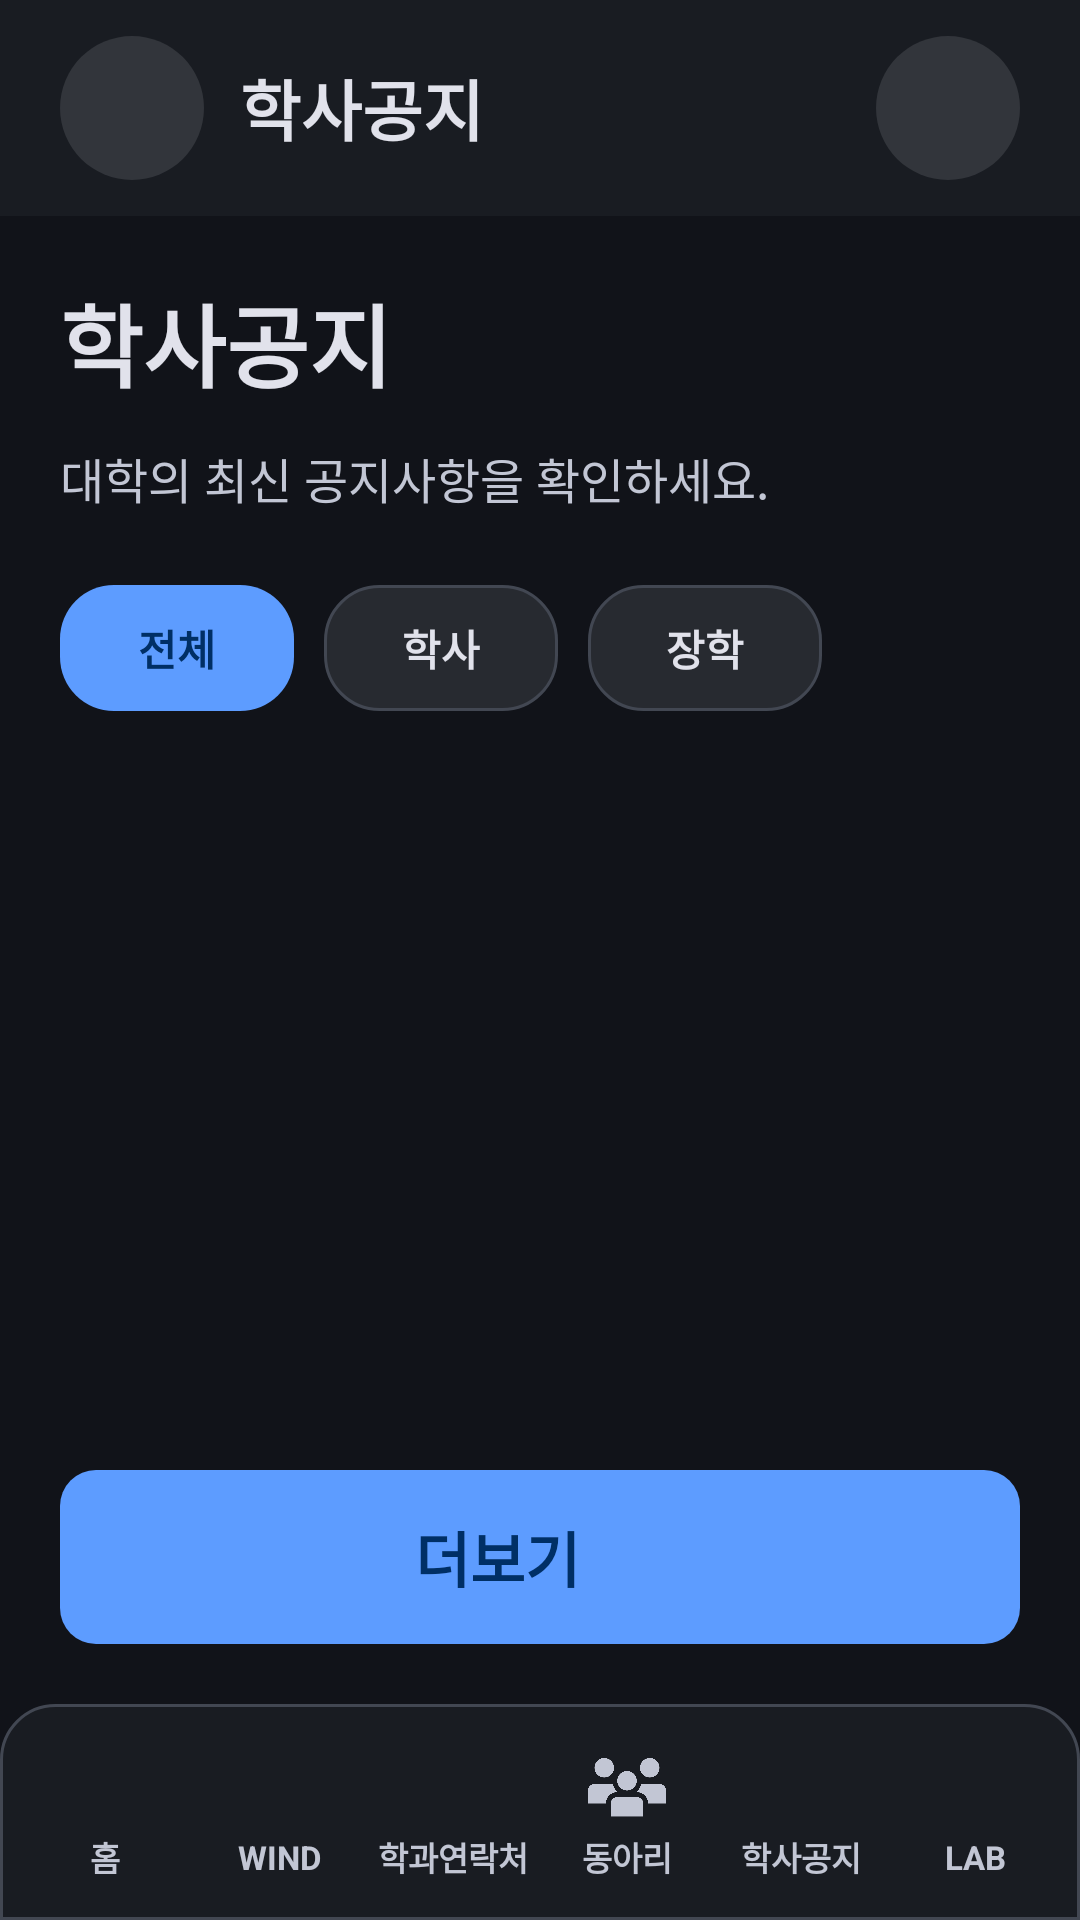

Icons on this 1080px x 1920px Android screen, each with the point to tap as point (x, y):
people: point (627, 1787)
